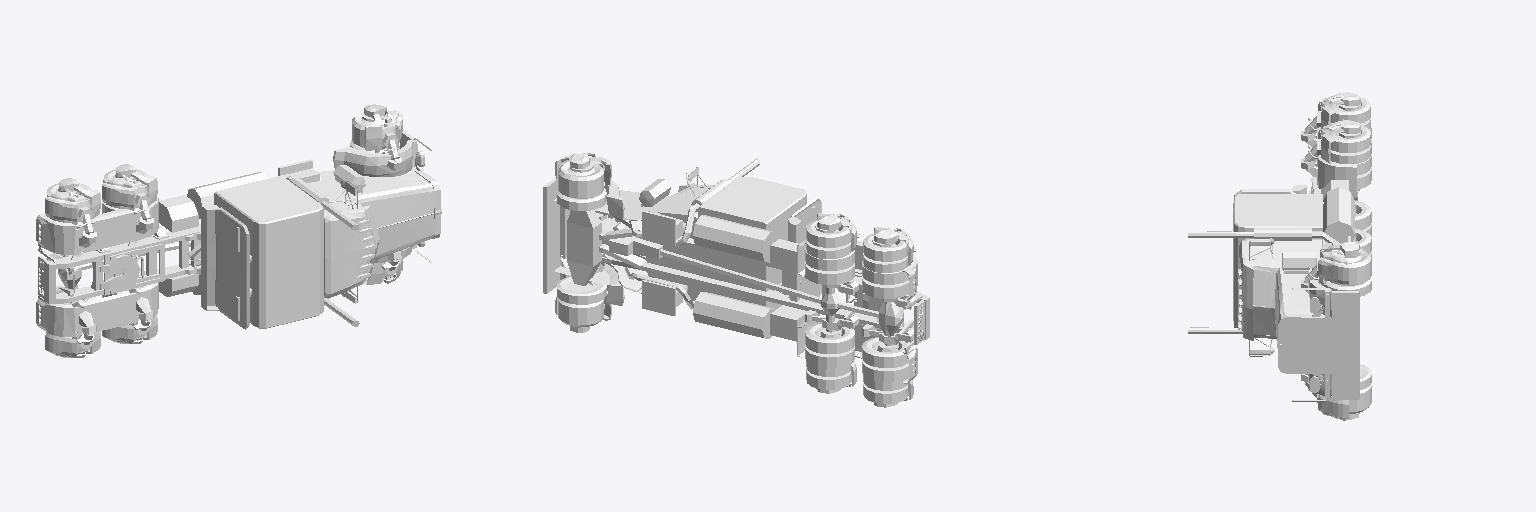
File: VH-Optimus.obj
The picture shows the model from 3 angles: view 1: azimuth 30°, elevation 25°; view 2: azimuth 150°, elevation 25°; view 3: azimuth 270°, elevation 25°; orthographic projection.
Visible parts, largest first — view 1: C_Reference_XR; view 2: C_Reference_XR; view 3: C_Reference_XR.
Boxes of the visible parts, <box> form: C_Reference_XR: <box>36,104,441,357</box>; C_Reference_XR: <box>543,153,929,407</box>; C_Reference_XR: <box>1188,92,1371,420</box>.
Bounding box in the file's own units: 1049 × 469 × 453.